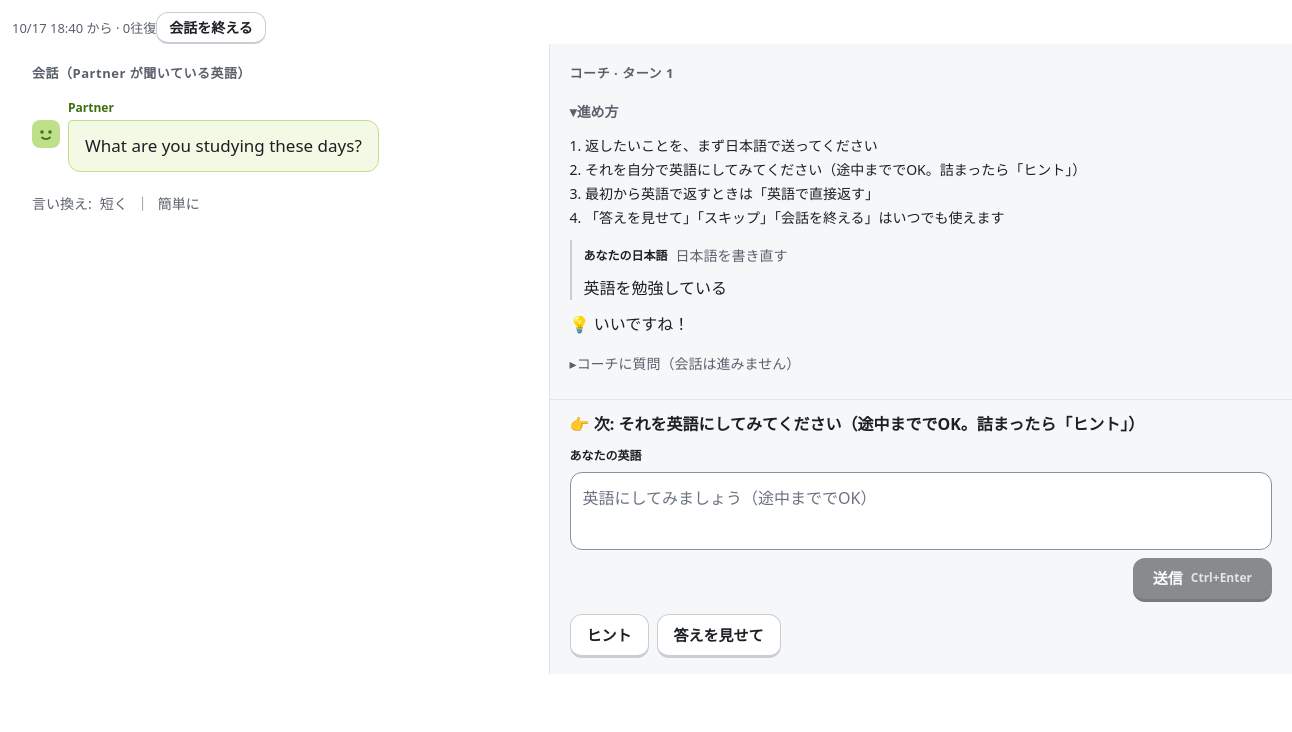
Test case: in-session restate control › sends simpler from the keyboard while preserving the English draft
In the text box labelled "あなたの英語": [921, 511] box [570,472,1272,550], type "I study"
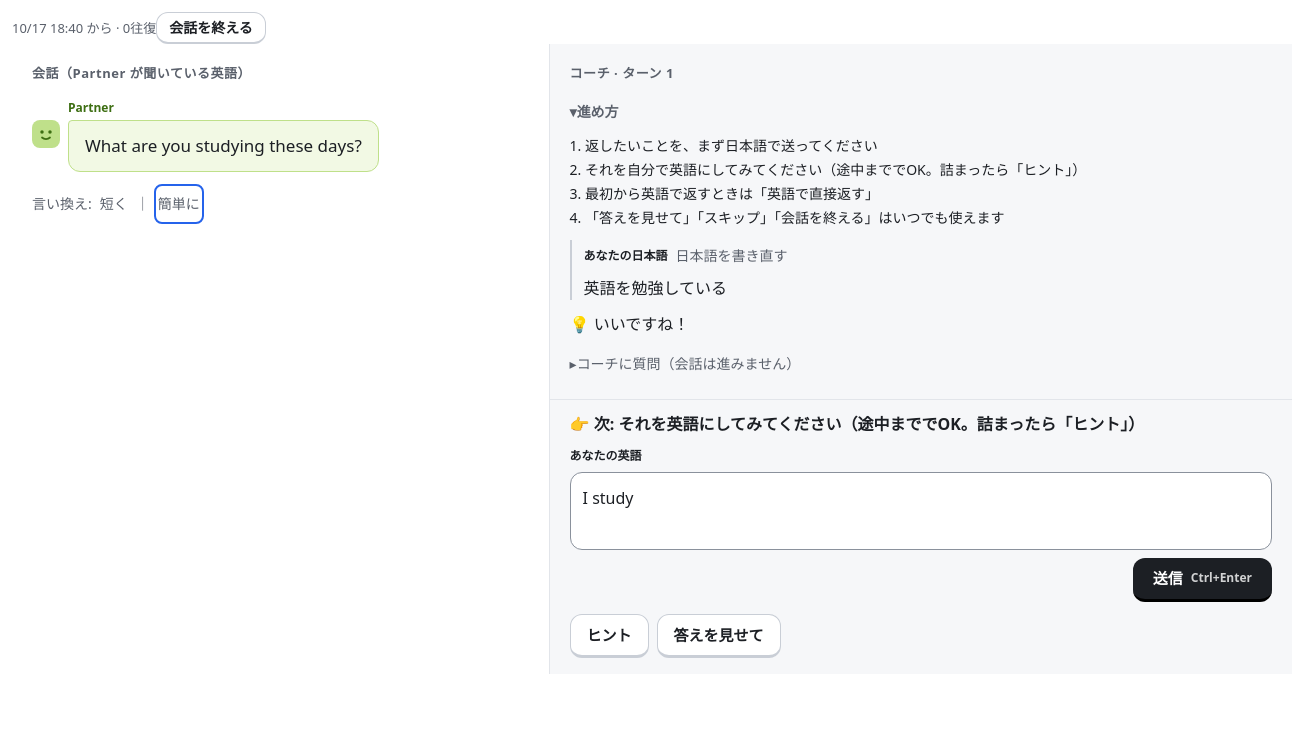
Press Enter
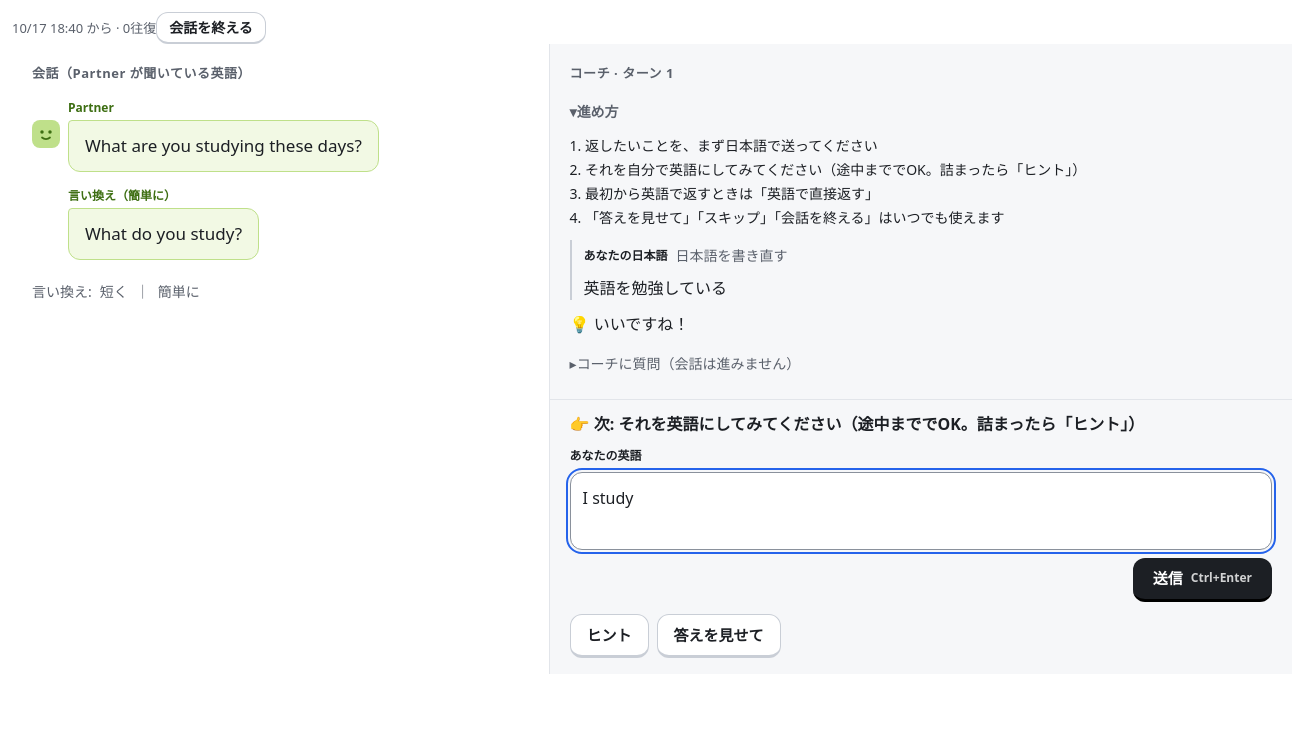
Now the text "言い換え（簡単に）" is shown, box [68,187,176,204]
